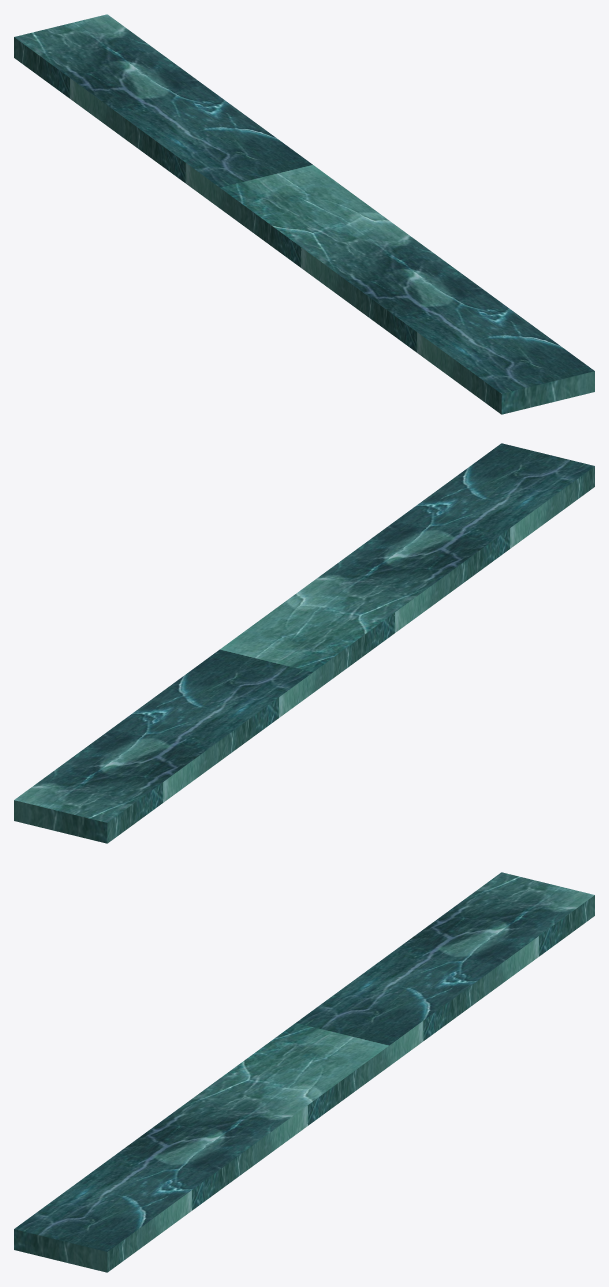
File: iceroad1.glb
3 views of the same model, one above another, from view 1: azimuth 30°, elevation 25°; view 2: azimuth 150°, elevation 25°; view 3: azimuth 330°, elevation 25° (orthographic).
Visible parts, largest first — view 1: Cube; view 2: Cube; view 3: Cube.
Boxes of the visible parts, x1,y1,x2,y2 form: Cube: [14, 14, 594, 414]; Cube: [14, 443, 594, 843]; Cube: [14, 872, 594, 1272].
Size of the model in its own units: 52.74 by 11.23 by 477.
Materials: 1 (1 with a texture image).
